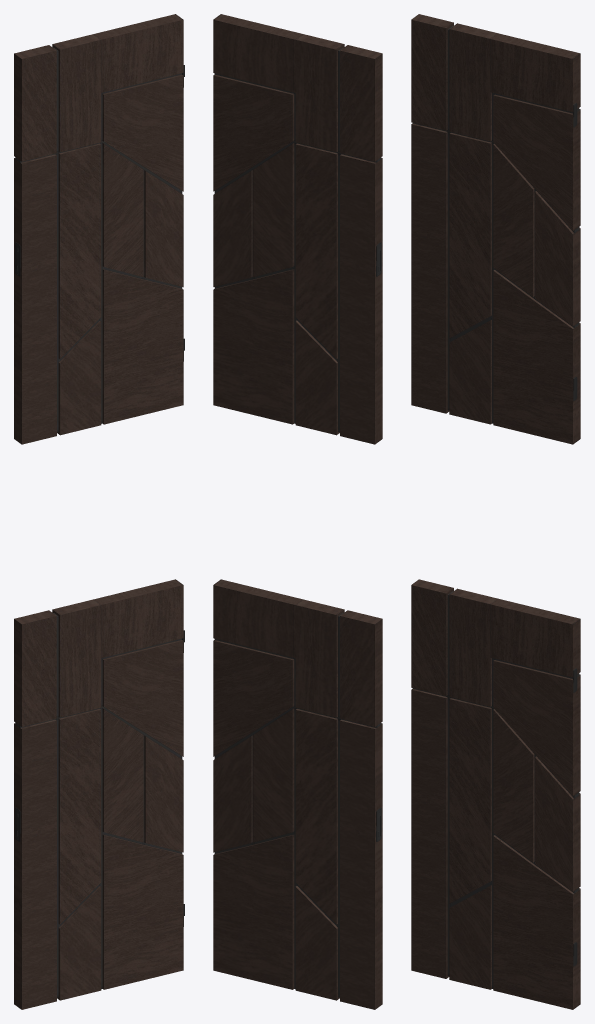
Rendered from PuertasBanios_opacos.fbx.
3 renders of one model, left to right at view 1: azimuth 30°, elevation 25°; view 2: azimuth 150°, elevation 25°; view 3: azimuth 330°, elevation 25°, orthographic.
Visible parts, largest first — view 1: Door 1, Door 1.001; view 2: Door 1, Door 1.001; view 3: Door 1, Door 1.001.
Part boxes in pixels (left/top/right/bottom): Door 1: left=14, top=579, right=183, bottom=1009; Door 1.001: left=14, top=14, right=183, bottom=444; Door 1: left=213, top=579, right=382, bottom=1009; Door 1.001: left=213, top=14, right=382, bottom=444; Door 1: left=411, top=579, right=580, bottom=1009; Door 1.001: left=411, top=14, right=580, bottom=444.
Bounding box in the file's own units: 91.82 × 510 × 7.63.
Materials: 2 (2 with a texture image).
